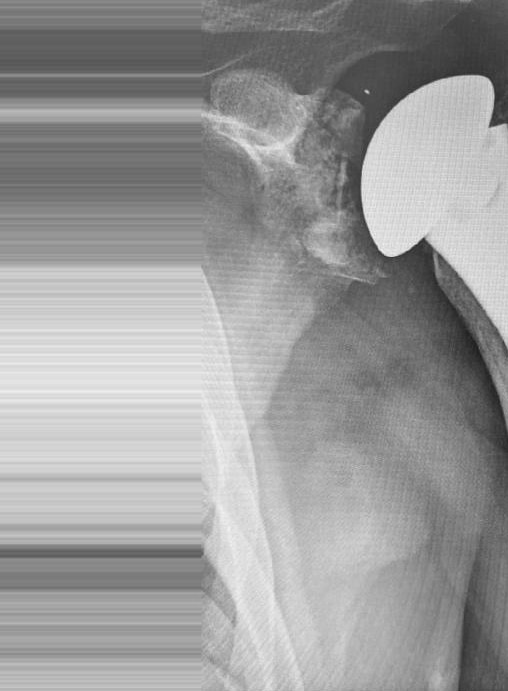Shoulder - Anotomical - Stryker: (346, 64, 508, 275)
